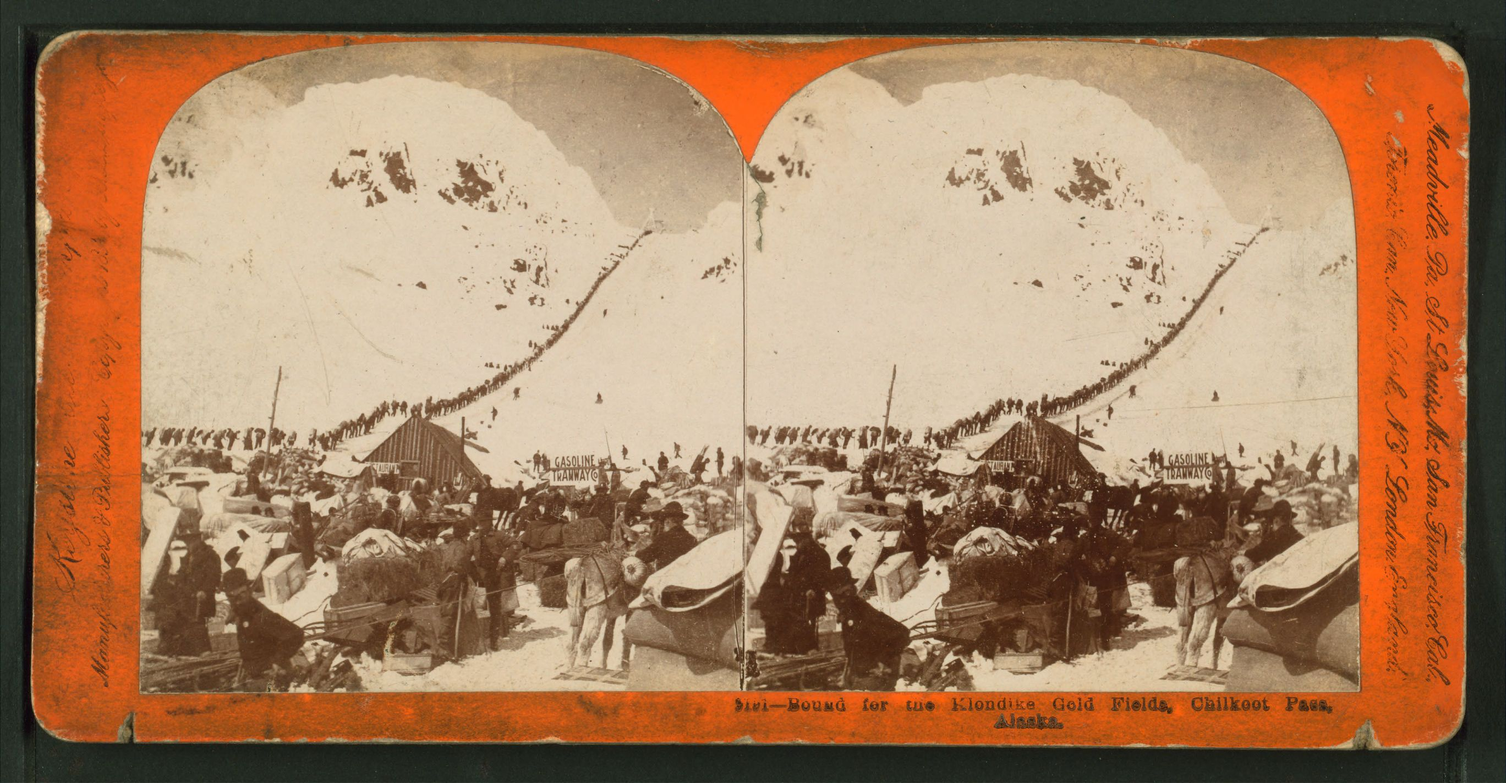half_image: (747, 42, 1359, 692), (140, 43, 744, 693)
